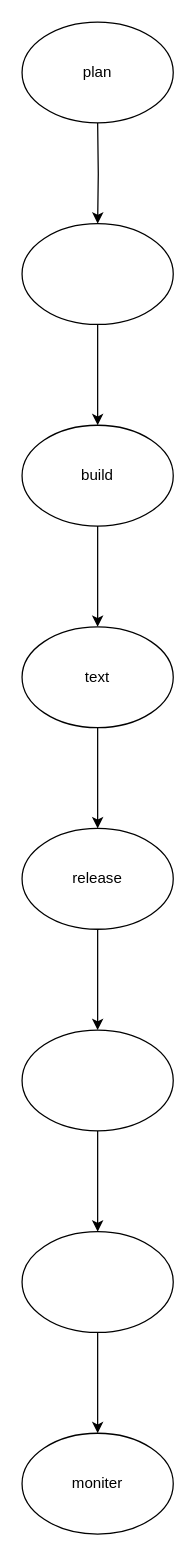
Some shapes in this 195 by 1556 pixel diagram are drawn without their labels. Each missing label, with the centre of its shape:
"deploy" goes at [97,1080].
"develope" goes at [97,273].
"operate" goes at [97,1281].
